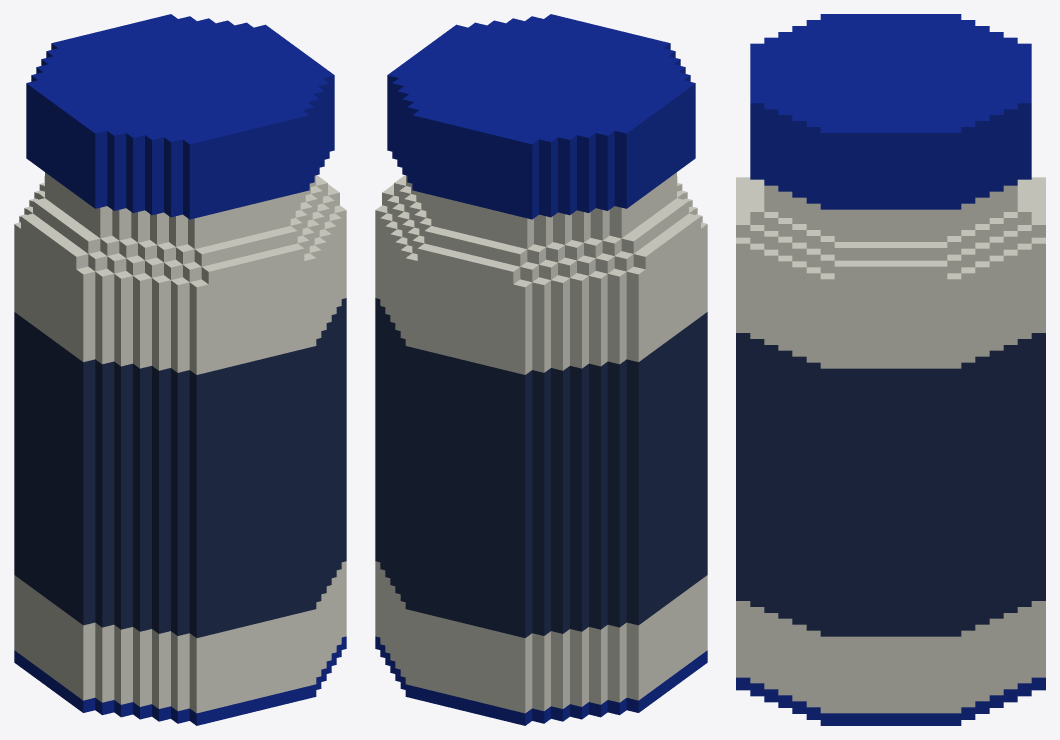
File: ibuprofen.glb
The picture shows the model from 3 angles, left to right: view 1: azimuth 30°, elevation 25°; view 2: azimuth 150°, elevation 25°; view 3: azimuth 270°, elevation 25°; orthographic projection.
Parts seen in each view (by area): view 1: ibuprofen:vessel; view 2: ibuprofen:vessel; view 3: ibuprofen:vessel.
Boxes of the visible parts, bbox=[...] form: ibuprofen:vessel: bbox=[14, 14, 346, 725]; ibuprofen:vessel: bbox=[375, 14, 707, 725]; ibuprofen:vessel: bbox=[736, 14, 1045, 725].
Size of the model in its own units: 0.044 by 0.092 by 0.044.
